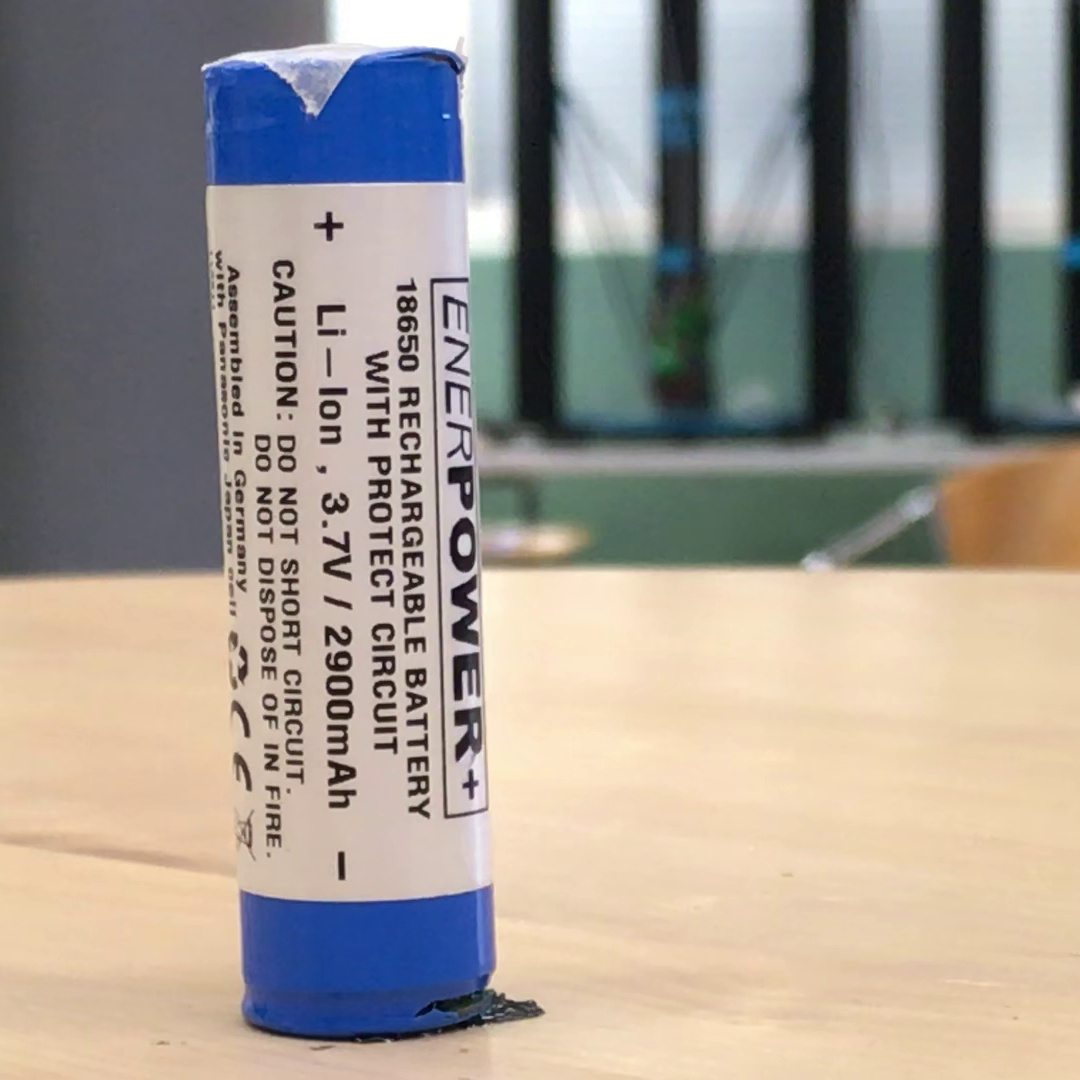keyword: (311, 483, 362, 591)
